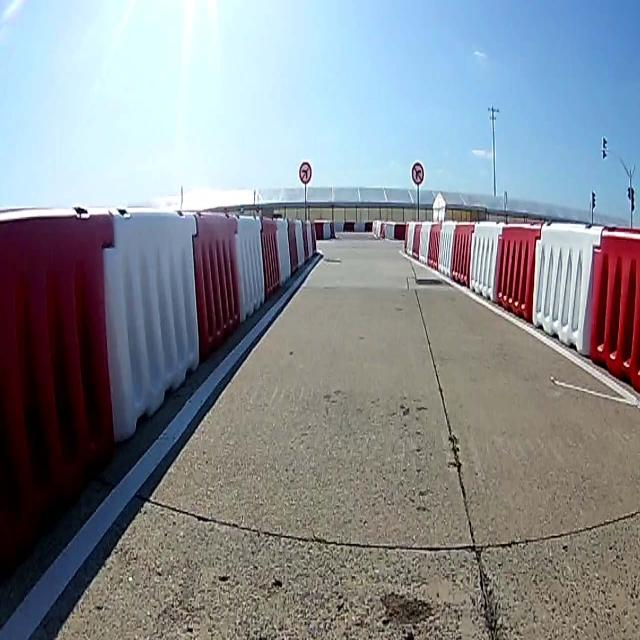sagadonulmez: (410, 160, 424, 184)
soladonulmez: (298, 160, 312, 186)
